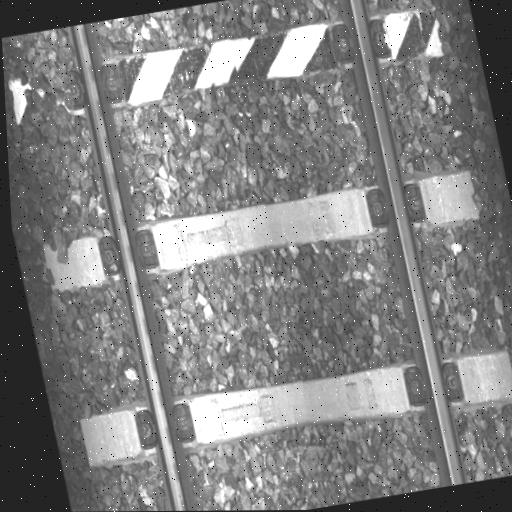sleeper: (4, 0, 454, 139), (36, 166, 485, 297), (75, 344, 512, 468)
